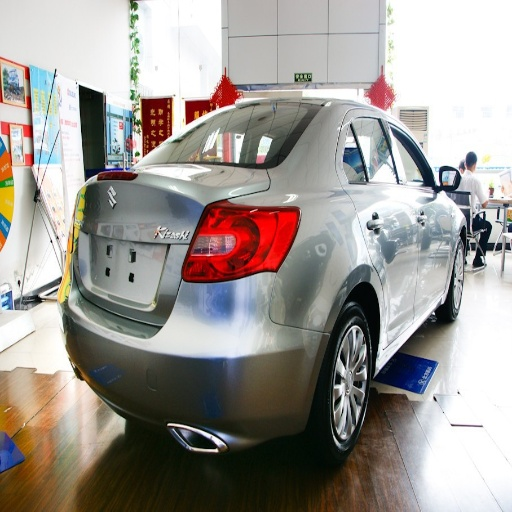back_bumper: (66, 271, 328, 453)
back_right_door: (336, 107, 419, 333)
